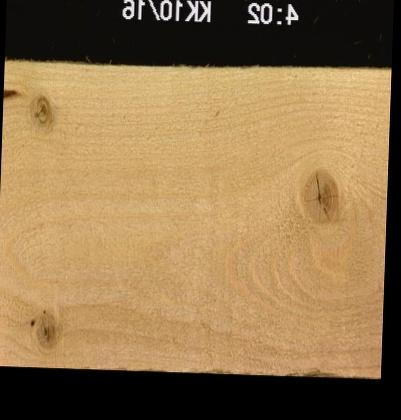sound_knot: (300, 165, 338, 223), (34, 309, 65, 350), (32, 92, 52, 125)
